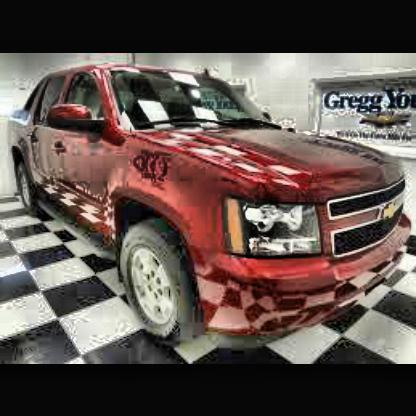Chevrolet Avalanche Crew Cab 2012: (11, 64, 407, 340)
